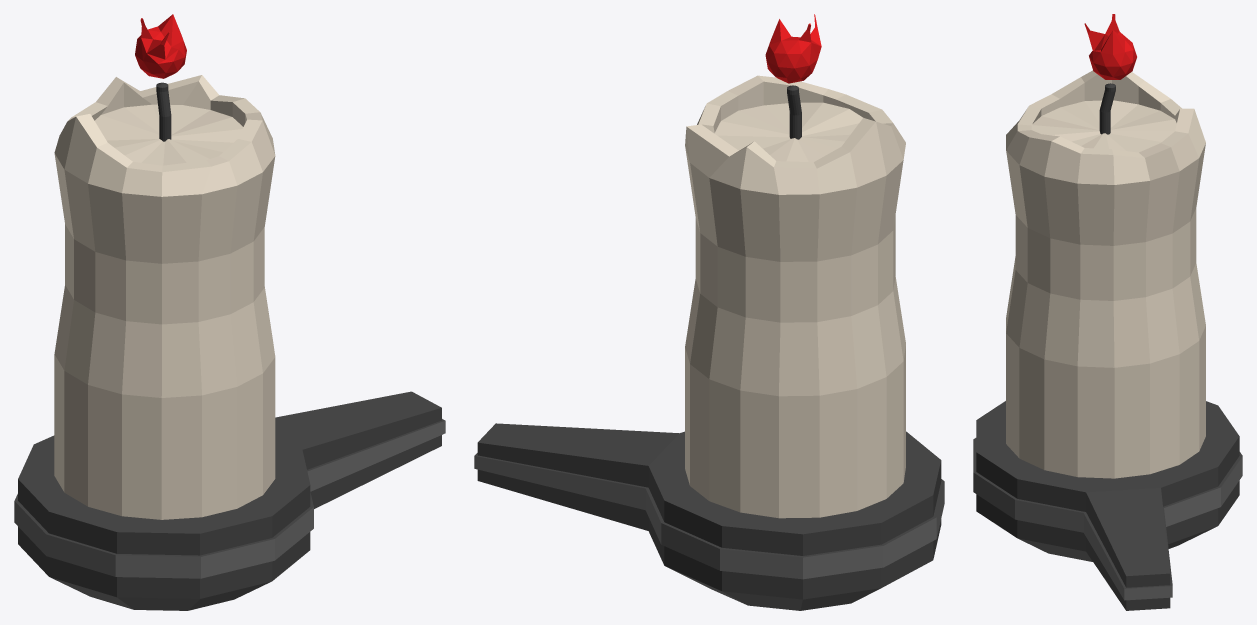
File: CandleOnStand_01.fbx
3 renders of one model, left to right at view 1: azimuth 30°, elevation 25°; view 2: azimuth 150°, elevation 25°; view 3: azimuth 270°, elevation 25°, orthographic. The views are drawn at different scales.
Parts seen in each view (by area): view 1: Flame, Cylinder, Candle; view 2: Flame, Cylinder, Candle; view 3: Flame, Cylinder, Candle.
Boxes of the visible parts, x1,y1,x2,y2 form: Flame: [54, 75, 275, 519]; Cylinder: [14, 391, 445, 610]; Candle: [135, 14, 186, 78]; Flame: [685, 75, 905, 518]; Cylinder: [474, 423, 944, 610]; Candle: [765, 14, 821, 83]; Flame: [1006, 70, 1205, 478]; Cylinder: [973, 401, 1242, 610]; Candle: [1084, 14, 1136, 79].
Size of the model in its own units: 438 by 551 by 267.
